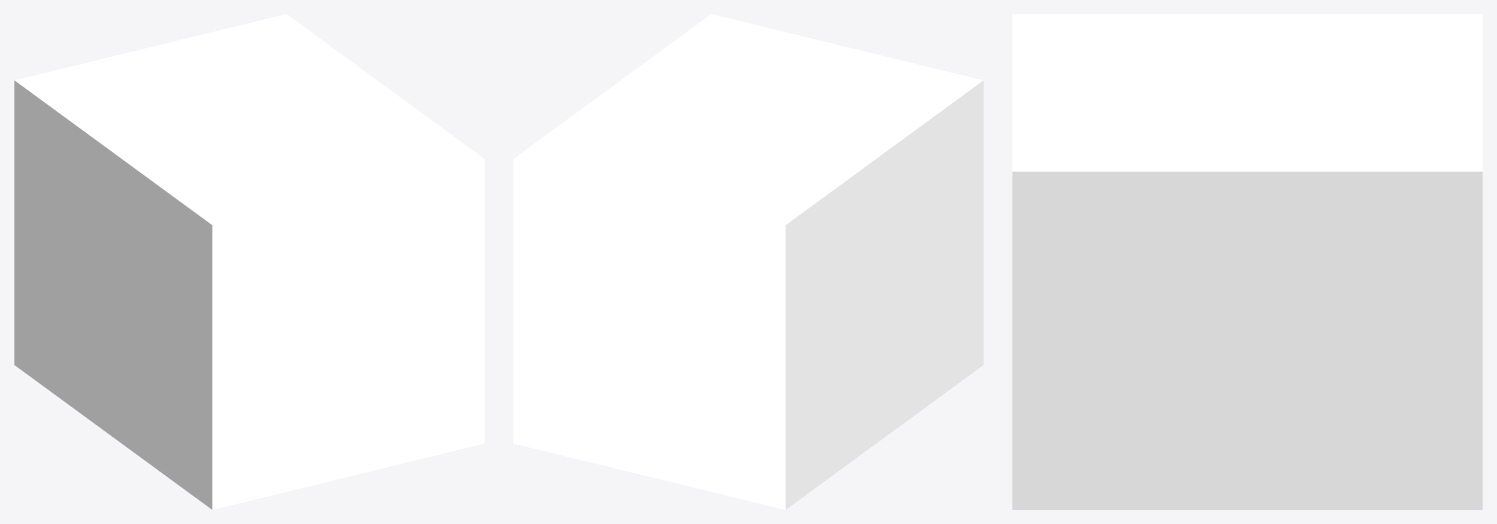
File: 26853802-c3bb-4773-8bfb-780fd53ddbb8.glb
3 views of the same model, side by side, from view 1: azimuth 30°, elevation 25°; view 2: azimuth 150°, elevation 25°; view 3: azimuth 270°, elevation 25° (orthographic). The views are drawn at different scales.
Visible parts, largest first — view 1: ._DeltaBlock_White; view 2: ._DeltaBlock_White; view 3: ._DeltaBlock_White.
Part boxes in pixels (box(x1,y1,x2,y2)): ._DeltaBlock_White: box(14, 14, 484, 509); ._DeltaBlock_White: box(513, 14, 983, 509); ._DeltaBlock_White: box(1012, 14, 1482, 509).
Size of what is drawn, in the model's own units: 0.0357 by 0.0357 by 0.045.
Materials: 2 (2 with a texture image).
